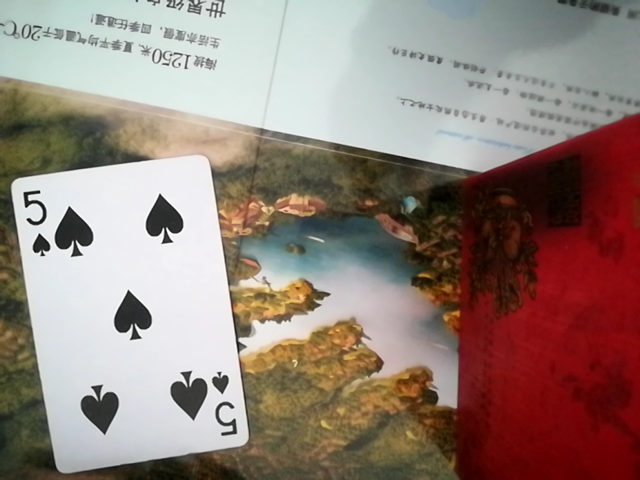ht 5: (17, 152, 240, 476)
